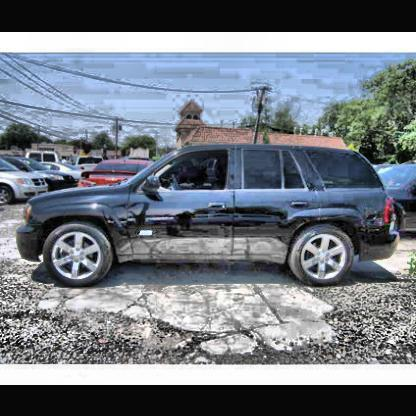Chevrolet TrailBlazer SS 2009: (17, 143, 402, 290)
